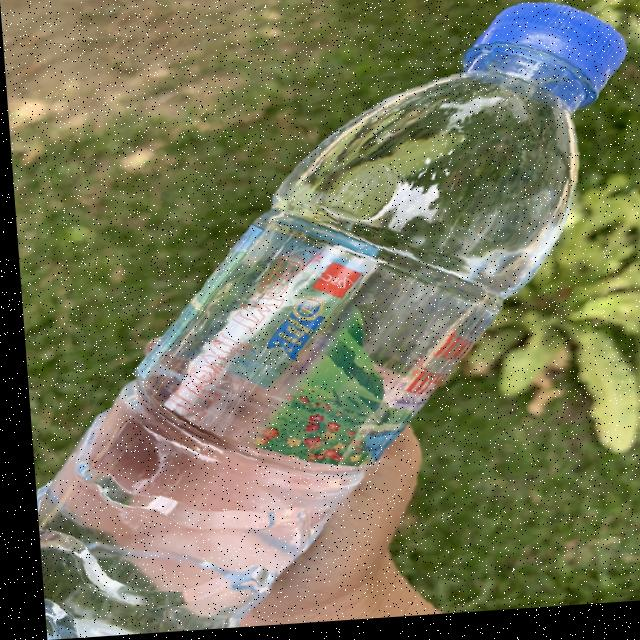plasticbottle: (1, 0, 640, 640)
